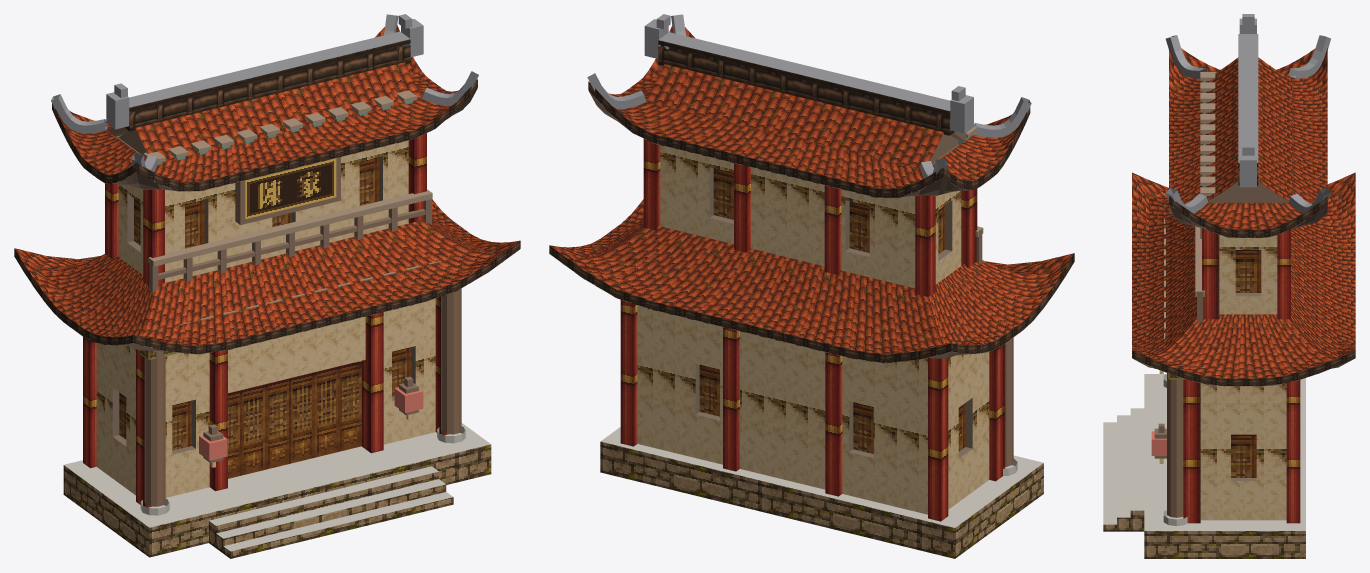
The model's file is g_jin_shop_blue.glb.
3 renders of one model, left to right at view 1: azimuth 30°, elevation 25°; view 2: azimuth 150°, elevation 25°; view 3: azimuth 270°, elevation 25°, orthographic. The views are drawn at different scales.
Visible parts, largest first — view 1: roof, plaster, stonetop, stone, post, door, eave, ridgeend, ridge, col, woodl, wood (+5 smaller); view 2: roof, plaster, post, stone, eave, ridgeend, ridge, win, stonetop, reveal, under, col (+1 smaller); view 3: roof, plaster, stonetop, post, ridgeend, stone, eave, col, woodl, win, wood, under.
Boxes of the visible parts, x1=… form: roof: x1=14, y1=25, x2=519, y2=346; plaster: x1=96, y1=140, x2=435, y2=497; stonetop: x1=64, y1=423, x2=490, y2=551; stone: x1=63, y1=444, x2=491, y2=558; post: x1=83, y1=133, x2=447, y2=507; door: x1=228, y1=361, x2=361, y2=478; eave: x1=14, y1=79, x2=520, y2=354; ridgeend: x1=51, y1=14, x2=478, y2=172; ridge: x1=124, y1=39, x2=410, y2=131; col: x1=144, y1=288, x2=461, y2=506; woodl: x1=143, y1=90, x2=441, y2=351; wood: x1=107, y1=127, x2=431, y2=462; roof: x1=550, y1=25, x2=1074, y2=354; plaster: x1=637, y1=145, x2=989, y2=514; post: x1=620, y1=139, x2=1005, y2=521; stone: x1=600, y1=441, x2=1043, y2=558; eave: x1=549, y1=81, x2=1074, y2=363; ridgeend: x1=587, y1=14, x2=1031, y2=181; ridge: x1=658, y1=40, x2=954, y2=135; win: x1=699, y1=168, x2=965, y2=453; stonetop: x1=601, y1=427, x2=1043, y2=527; reveal: x1=695, y1=167, x2=972, y2=458; under: x1=550, y1=91, x2=1074, y2=363; col: x1=1005, y1=337, x2=1013, y2=466; roof: x1=1132, y1=47, x2=1355, y2=378; plaster: x1=1200, y1=235, x2=1286, y2=520; stonetop: x1=1103, y1=374, x2=1305, y2=530; post: x1=1183, y1=228, x2=1300, y2=523; ridgeend: x1=1165, y1=14, x2=1330, y2=213; stone: x1=1103, y1=510, x2=1305, y2=558; eave: x1=1132, y1=196, x2=1355, y2=386; col: x1=1167, y1=373, x2=1183, y2=517; woodl: x1=1164, y1=72, x2=1216, y2=338; win: x1=1231, y1=250, x2=1261, y2=477; wood: x1=1154, y1=181, x2=1288, y2=458; under: x1=1132, y1=204, x2=1355, y2=386.
Size of the model in its own units: 67.95 by 71 by 40.69.
Materials: 20 (10 with a texture image).
